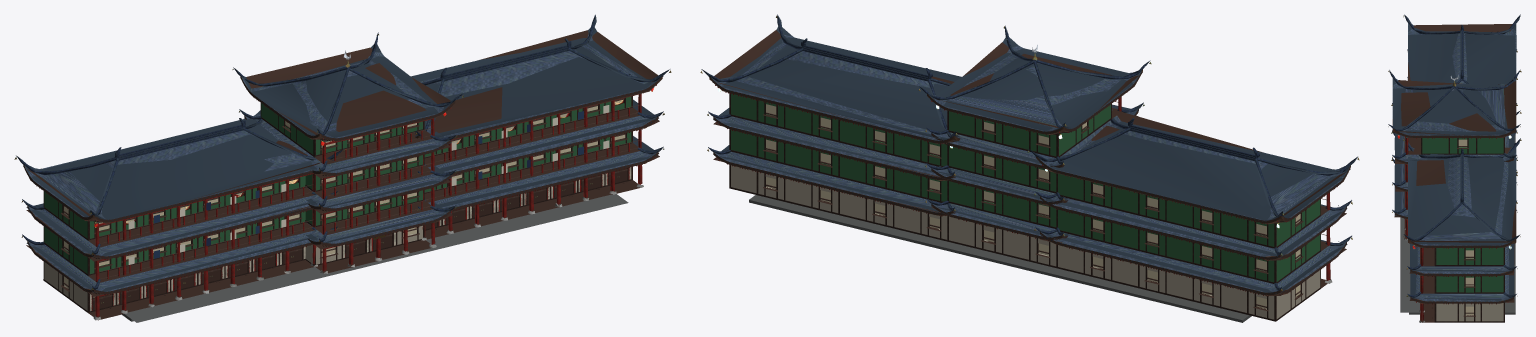
File: prop_dorm_great.gltf
3 views of the same model, side by side, from view 1: azimuth 30°, elevation 25°; view 2: azimuth 150°, elevation 25°; view 3: azimuth 270°, elevation 25° (orthographic). The views are drawn at different scales.
Parts seen in each view (by area): view 1: Far, Near; view 2: Far, Near; view 3: Far, Near.
Boxes of the visible parts, box(x1,y1,x2,y2) form: Far: box(17, 15, 668, 322); Near: box(14, 15, 671, 320); Far: box(709, 14, 1357, 322); Near: box(700, 15, 1359, 321); Far: box(1391, 15, 1520, 322); Near: box(1388, 14, 1521, 322).
Bounding box in the file's own units: 68.65 × 21.27 × 17.55.
24 materials, 17 textured.
